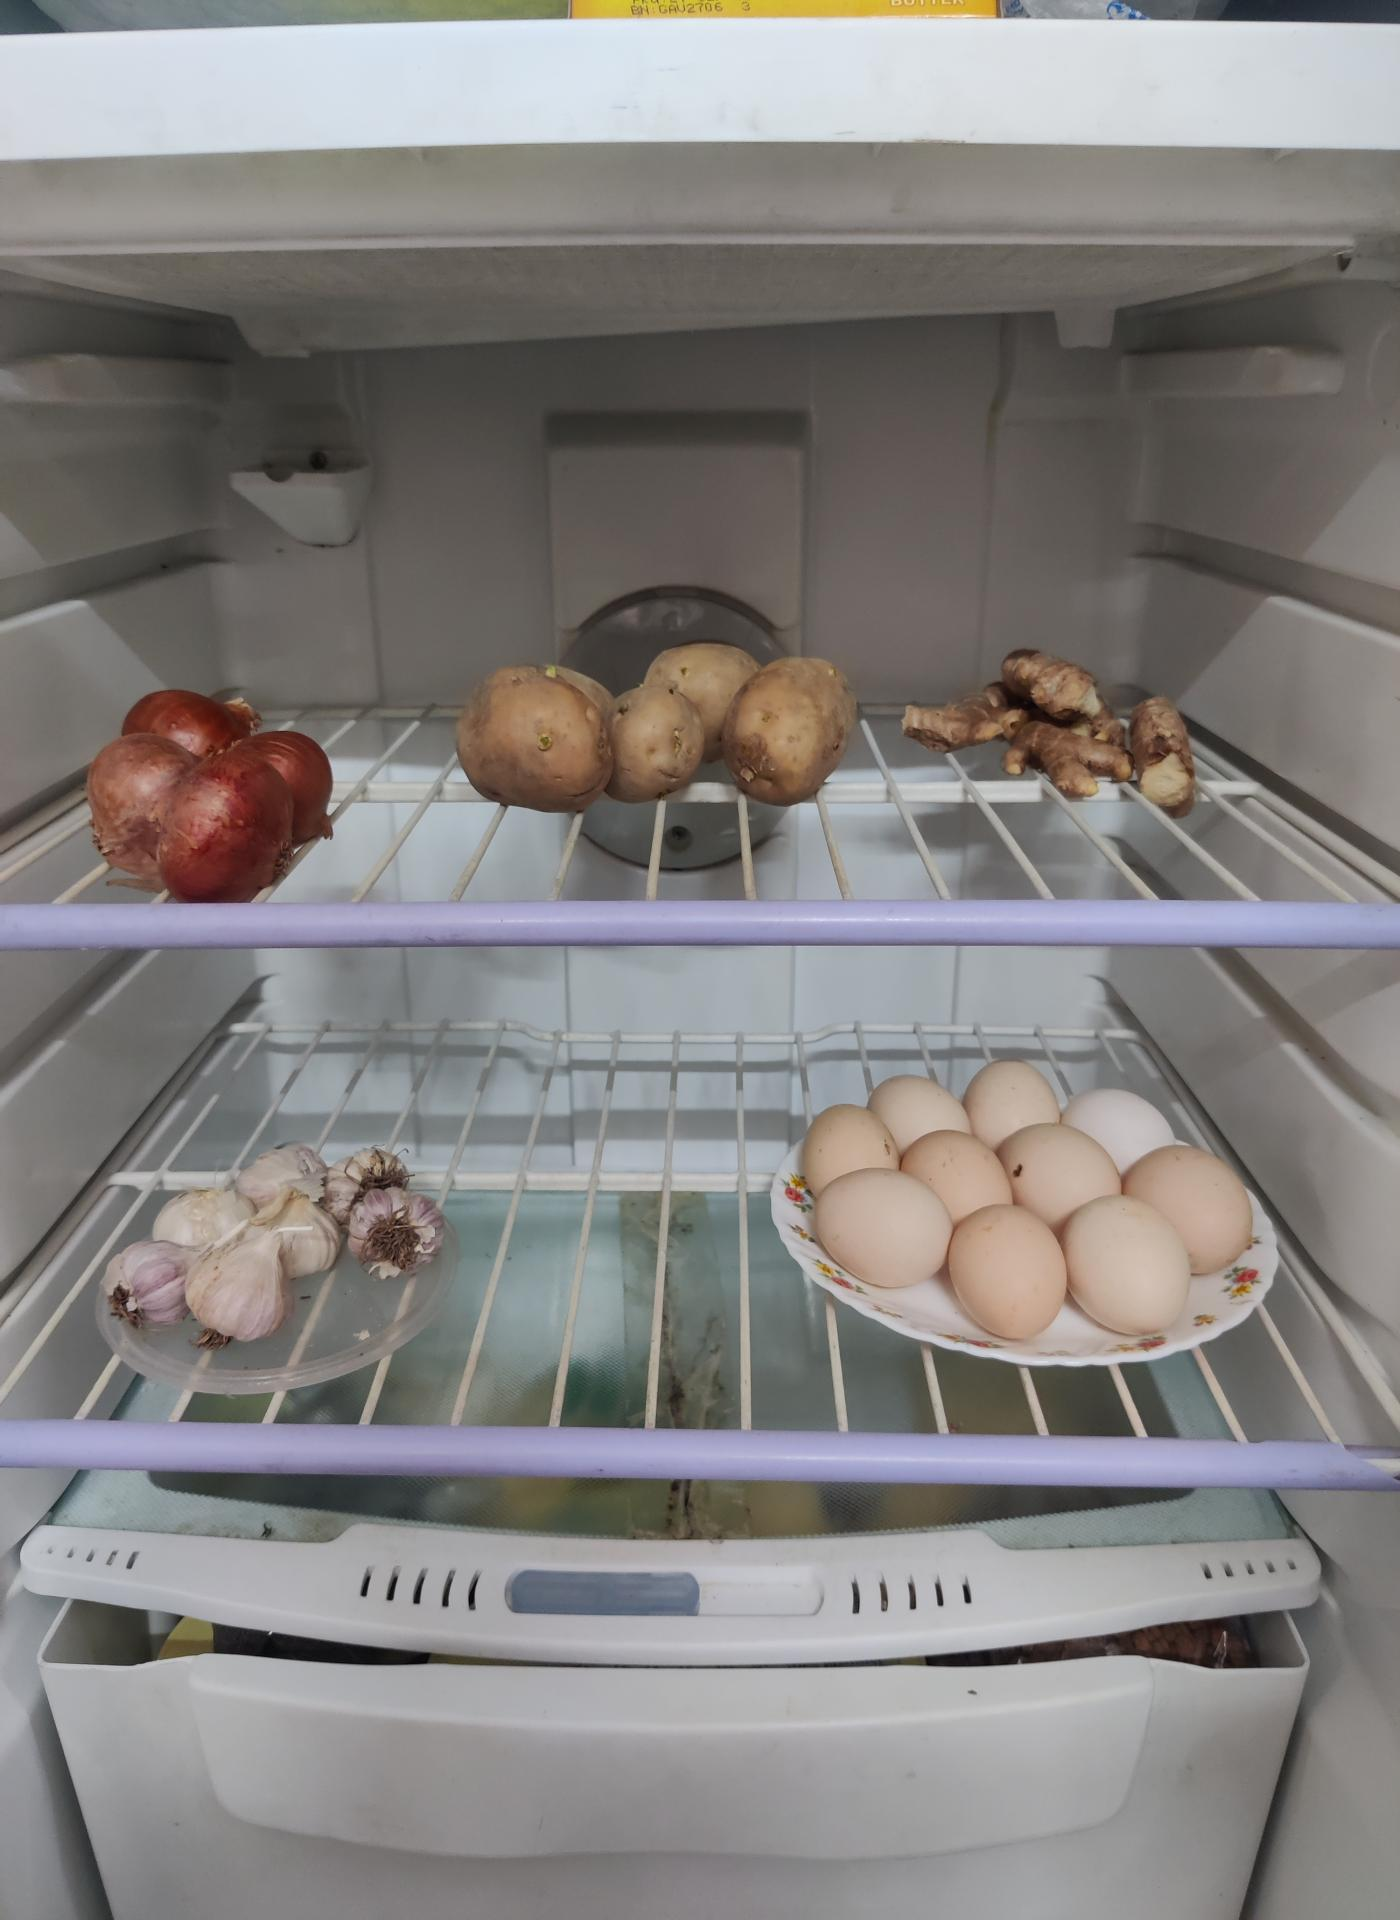egg: (790, 1058, 1254, 1346)
garlic: (112, 1145, 426, 1346)
ginger: (904, 647, 1205, 802)
onion: (88, 690, 335, 900)
potato: (455, 647, 860, 823)
